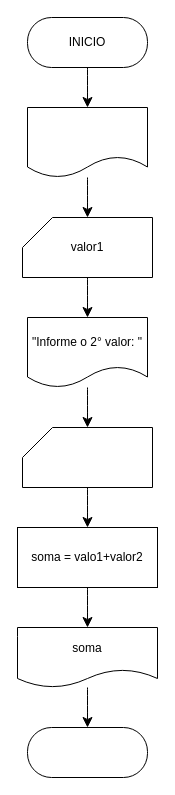
This 175x795 diagram has some shape labels left out. Each missing label, with the centre of its shape:
"Informe o 1° valor: ": pixel 87 142
FIM: pixel 87 752
valor2: pixel 87 457
